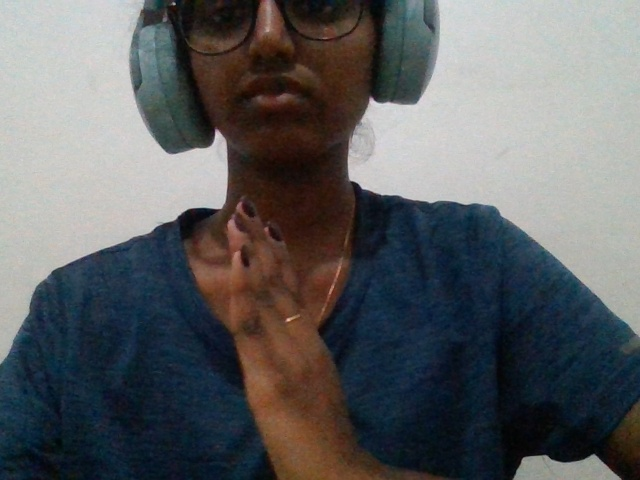Fine: (198, 178, 387, 480)
